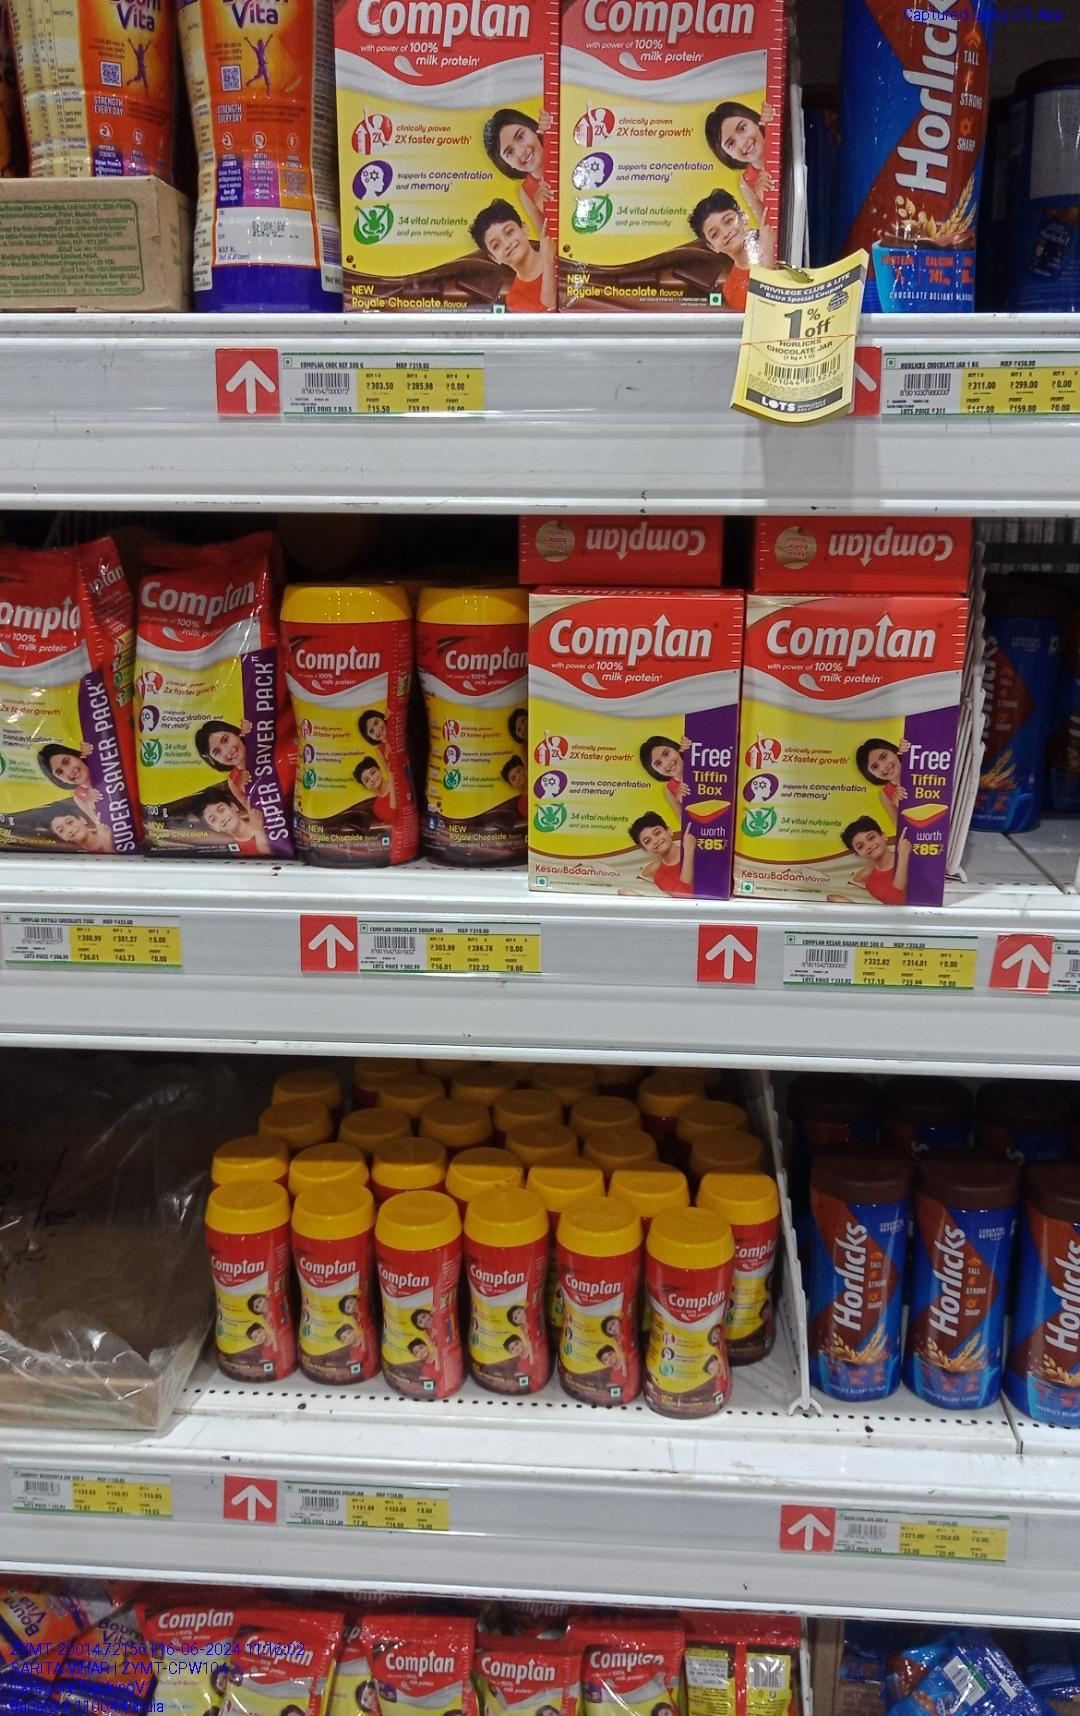COMPLAN_CHOCOLATE_500_GMS_JAR: (291, 585, 409, 860), (419, 589, 521, 866), (199, 1183, 291, 1381), (554, 1205, 640, 1407), (377, 1195, 459, 1405), (648, 1217, 733, 1421), (468, 1197, 547, 1395), (296, 1197, 371, 1379)
COMPLAN_RC_POUCH_700_GMS_12: (141, 549, 277, 864), (2, 553, 121, 869)
HORLICK_CHOCOLATE_500_G_JAR: (810, 1159, 897, 1404), (911, 1160, 994, 1411), (1020, 1159, 1080, 1424)
